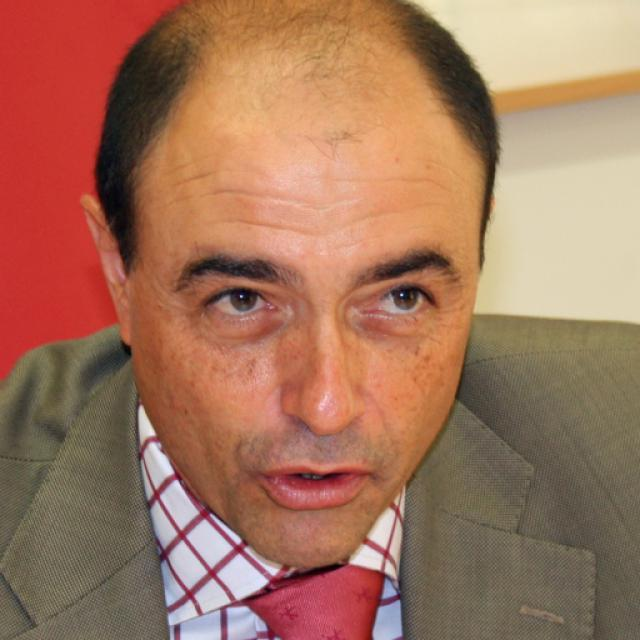content: (128, 82, 488, 572)
